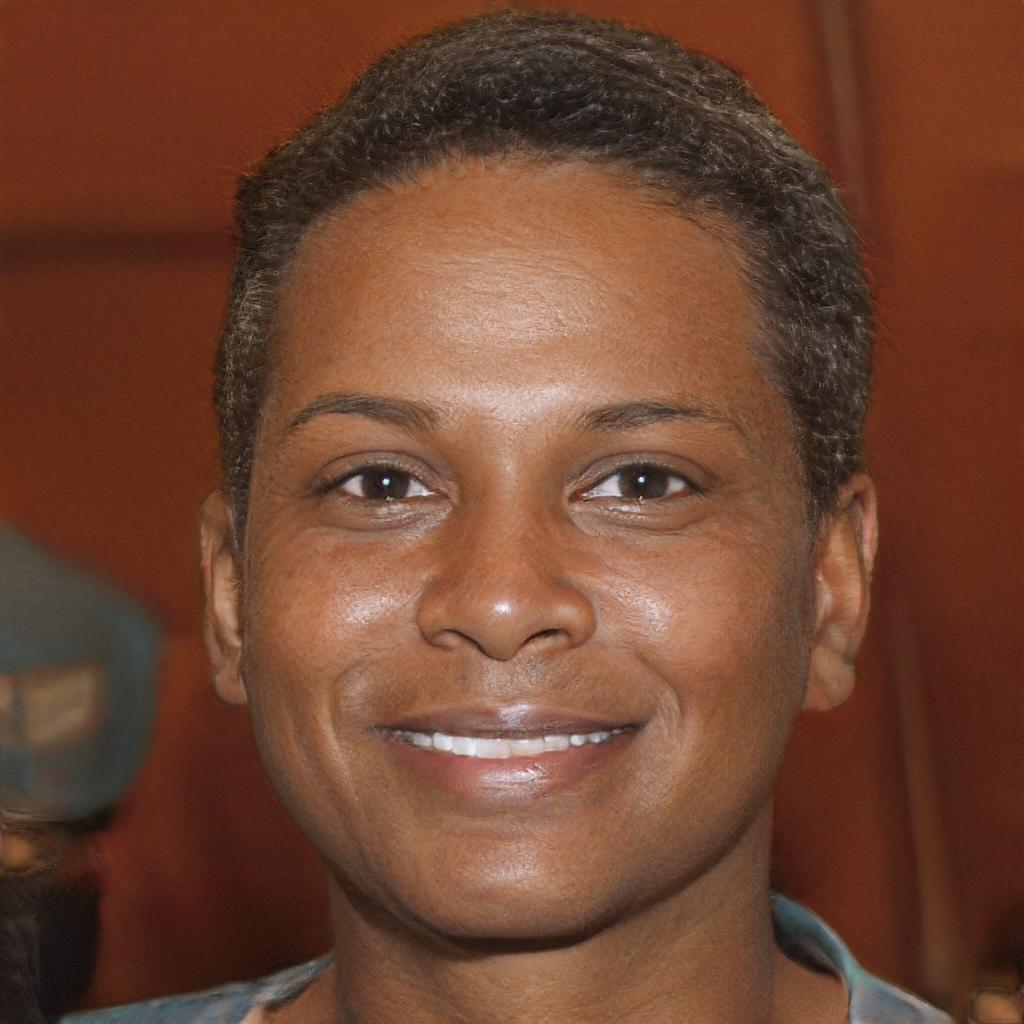face: (241, 155, 807, 938)
